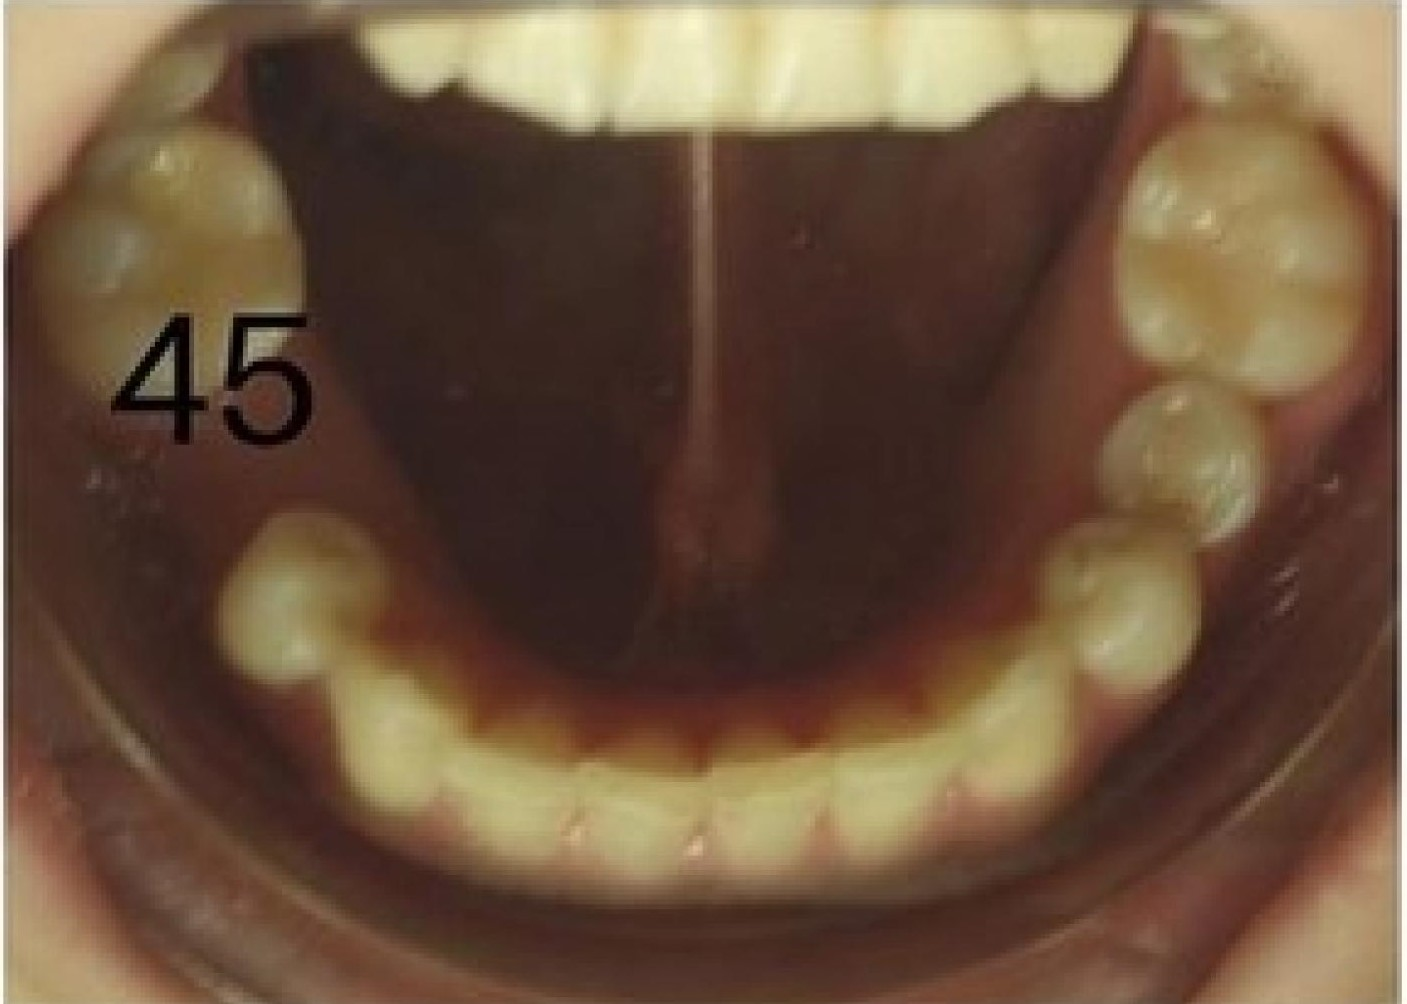LL1BC_healthy: (1045, 517, 1199, 696)
LL1M_healthy: (1111, 117, 1380, 397)
LL2BC_healthy: (1091, 376, 1267, 537)
LLCI_healthy: (704, 715, 828, 881)
LLC_healthy: (932, 611, 1072, 800)
LLLI_healthy: (832, 688, 957, 862)
LR1BC_healthy: (217, 507, 399, 692)
LR1M_decay: (30, 127, 309, 427)
LRCI_healthy: (577, 726, 706, 875)
LRC_healthy: (328, 644, 481, 815)
LRLI_healthy: (436, 707, 580, 868)
